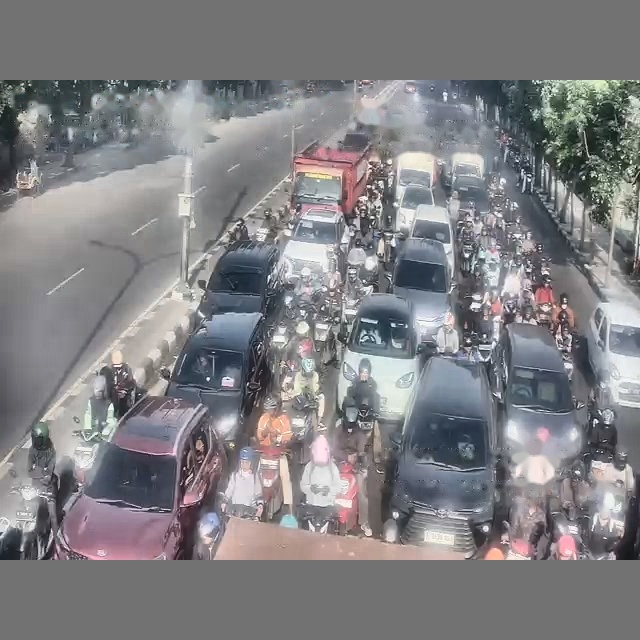Mobil: (56, 396, 228, 559), (388, 356, 498, 554), (161, 313, 269, 448), (489, 323, 584, 463), (337, 293, 421, 421), (387, 238, 456, 341), (197, 240, 283, 320), (585, 301, 639, 408), (281, 207, 350, 280), (410, 205, 455, 273), (394, 184, 434, 234), (452, 176, 489, 214), (404, 81, 416, 93)
Motor: (299, 462, 357, 534), (10, 473, 55, 559)
Truk: (290, 141, 371, 216)
